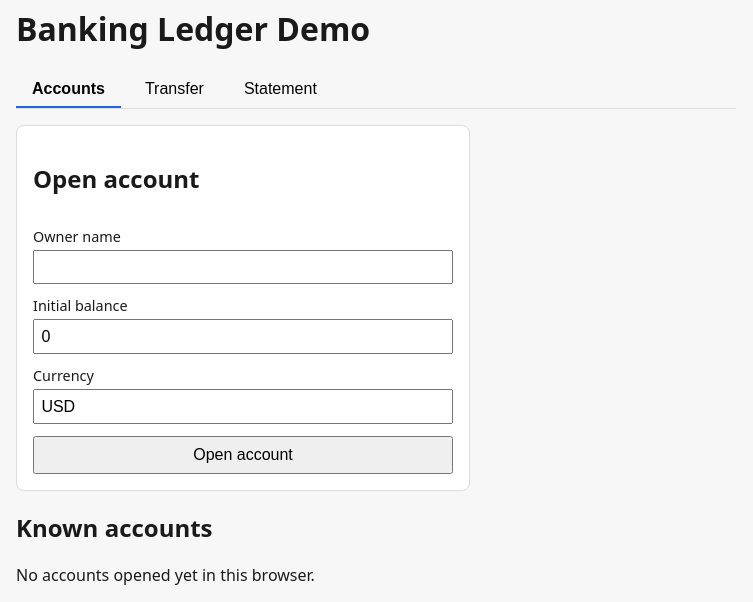
Test: App › switches to the Statement tab on click
Click the button "Statement".
click(280, 90)  # box x1=228 y1=72 x2=333 y2=108
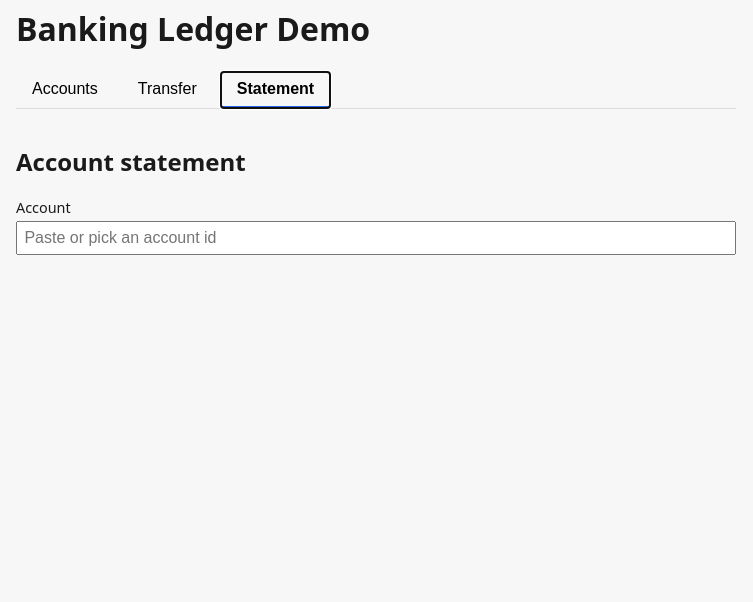
Expected: the heading "Account statement" is shown, x1=16 y1=145 x2=246 y2=178
